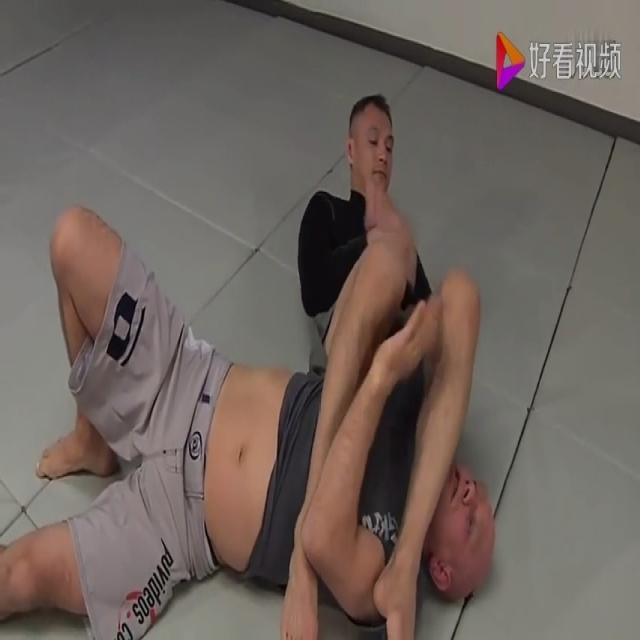fight: (0, 85, 496, 639)
